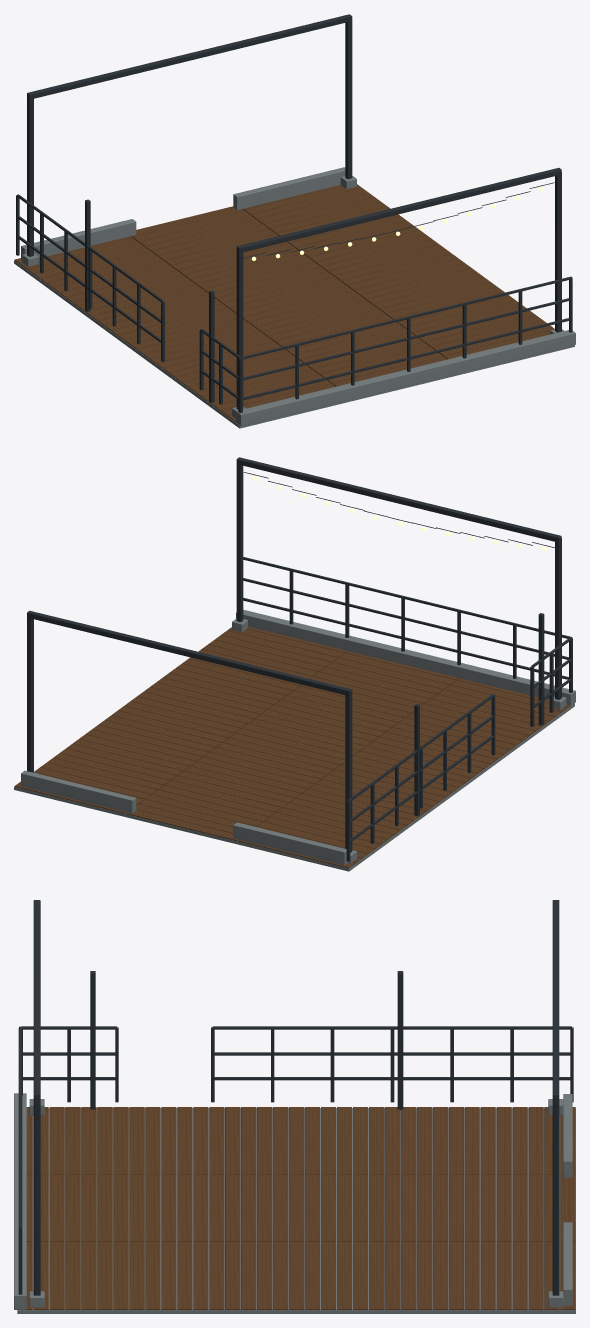
The model's file is rooftop-terrace.glb.
3 views of the same model, one above another, from view 1: azimuth 30°, elevation 25°; view 2: azimuth 150°, elevation 25°; view 3: azimuth 270°, elevation 25° (orthographic). The views are drawn at different scales.
Parts seen in each view (by area): view 1: RooftopDeck, TerraceArchitecture; view 2: RooftopDeck, TerraceArchitecture; view 3: RooftopDeck, TerraceArchitecture.
Part boxes in pixels (<box>): RooftopDeck: <box>14,184,554,422</box>; TerraceArchitecture: <box>14,14,575,428</box>; RooftopDeck: <box>14,626,570,868</box>; TerraceArchitecture: <box>14,457,575,871</box>; RooftopDeck: <box>26,1107,575,1309</box>; TerraceArchitecture: <box>14,900,575,1313</box>.
Bounding box in the file's own units: 6 × 2.98 × 7.04.
4 materials, 1 textured.
